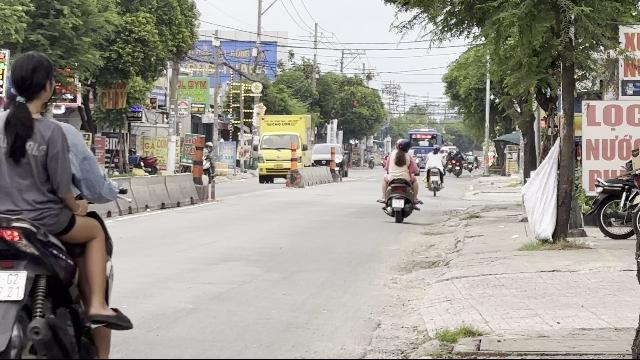motorcyclist: (1, 51, 131, 357)
nohelmet: (5, 51, 57, 115)
